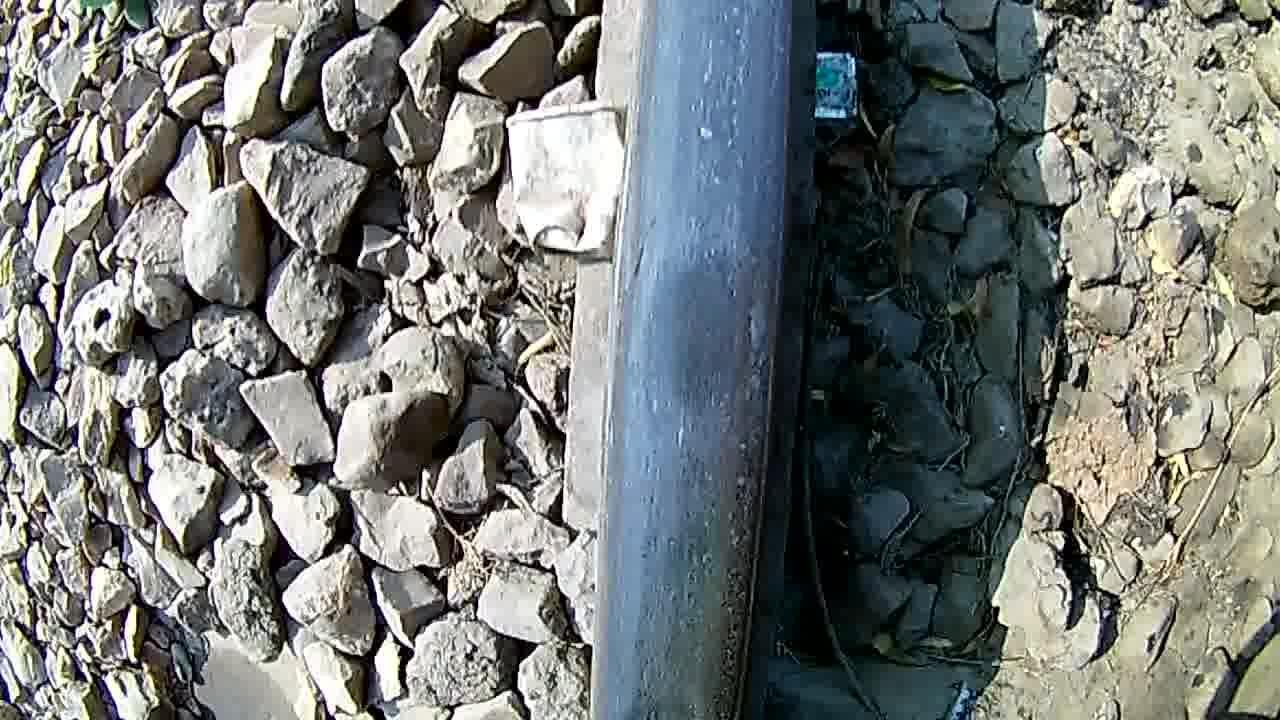crack: (633, 196, 793, 583)
